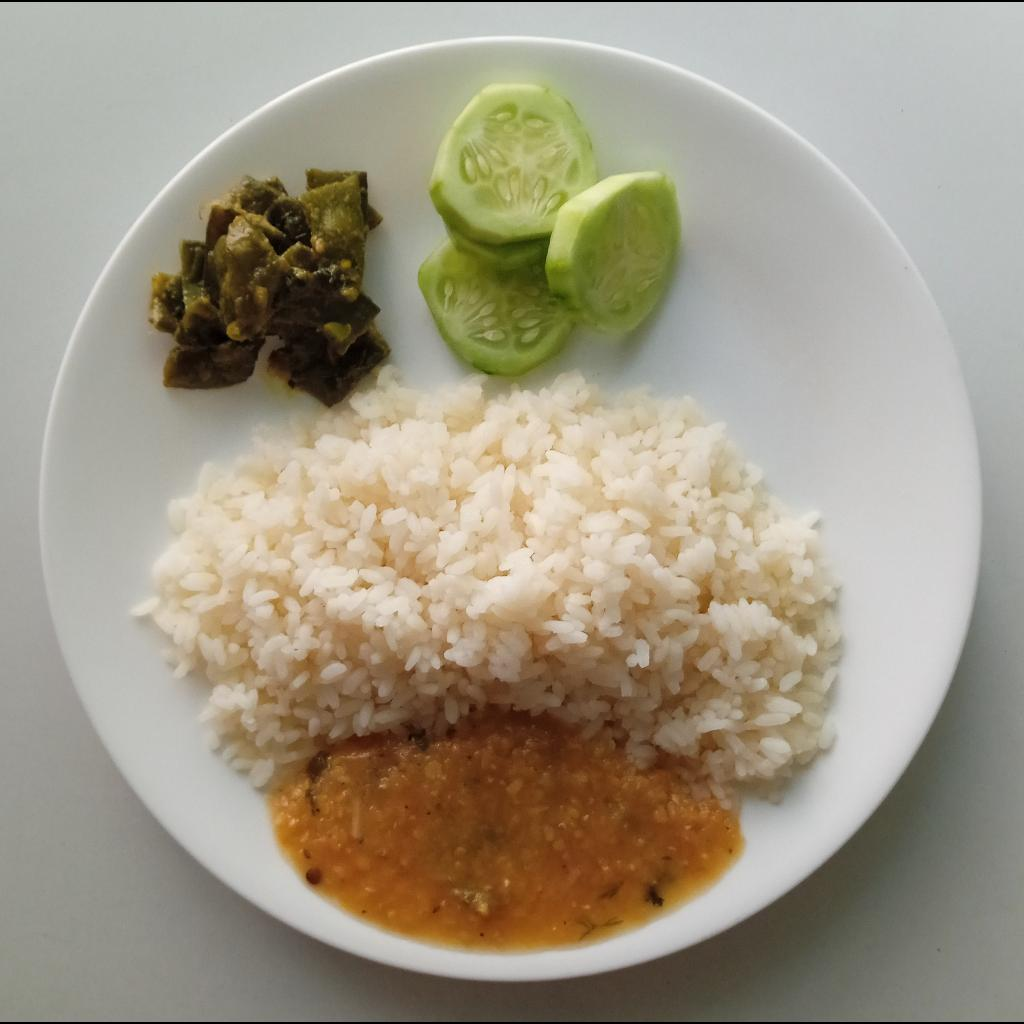cucumber: (416, 84, 680, 378)
daal: (266, 707, 751, 955)
rice: (131, 368, 842, 803)
shim: (146, 169, 391, 409)
